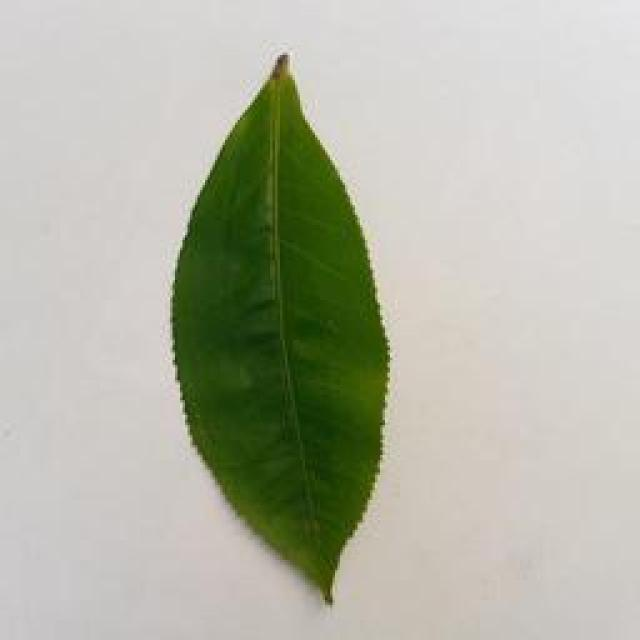Healthy: (160, 43, 405, 605)
